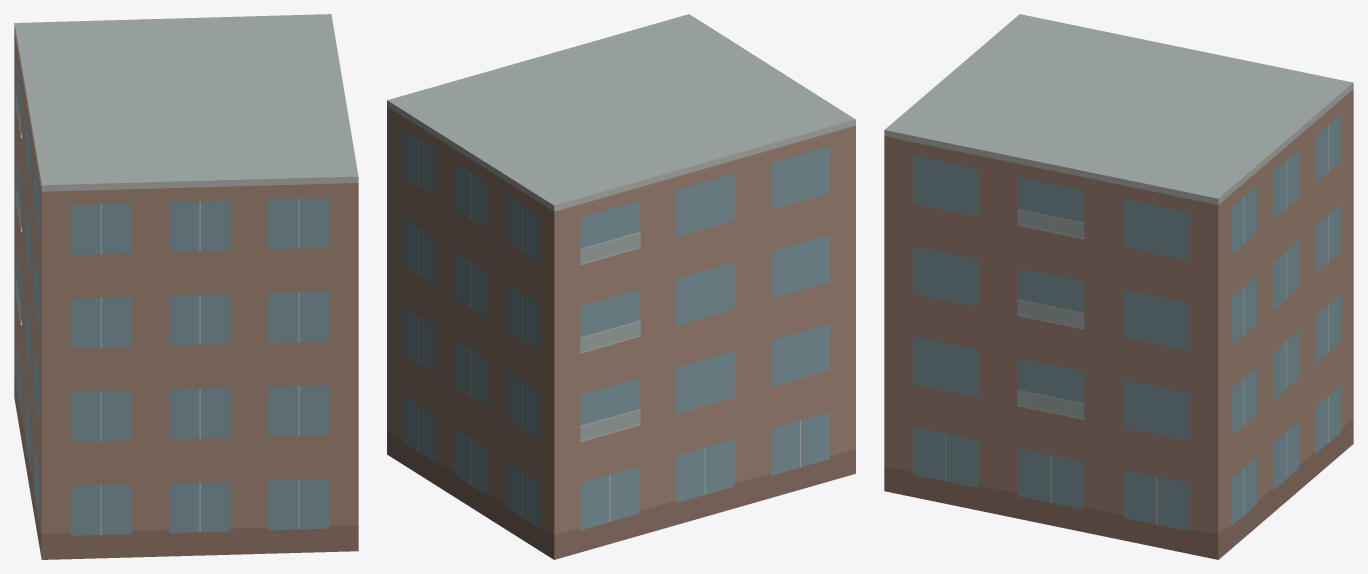
File: survey-upis-32825167.glb
The picture shows the model from 3 angles, left to right: view 1: azimuth 30°, elevation 25°; view 2: azimuth 150°, elevation 25°; view 3: azimuth 270°, elevation 25°; orthographic projection. The views are drawn at different scales.
Parts seen in each view (by area): view 1: survey-upis-32825167.tmp; view 2: survey-upis-32825167.tmp; view 3: survey-upis-32825167.tmp.
Part boxes in pixels (left/top/right/bottom): survey-upis-32825167.tmp: left=14, top=14, right=358, bottom=559; survey-upis-32825167.tmp: left=387, top=14, right=855, bottom=559; survey-upis-32825167.tmp: left=884, top=14, right=1353, bottom=559.
Bounding box in the file's own units: 15.59 × 14.2 × 16.73.
